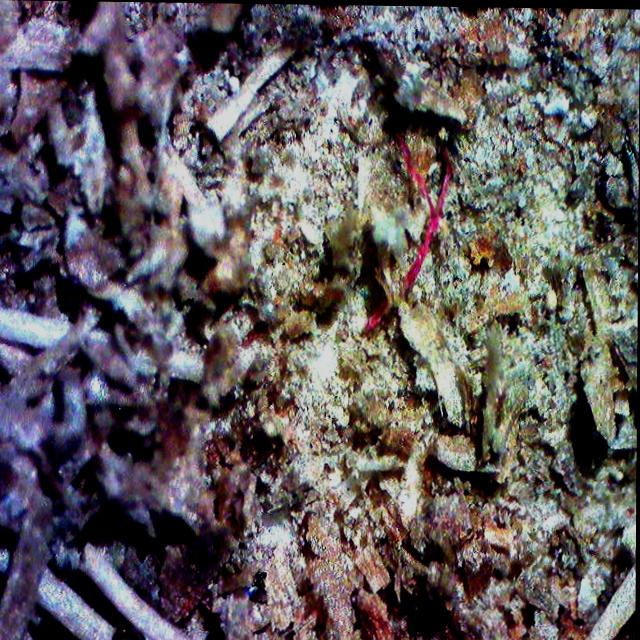microplastic: (401, 136, 452, 287), (367, 297, 389, 329)
